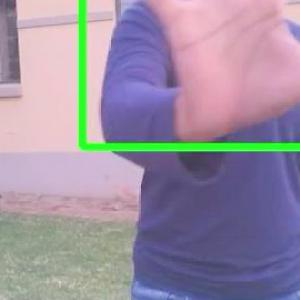follow_hand: (129, 0, 299, 149)
